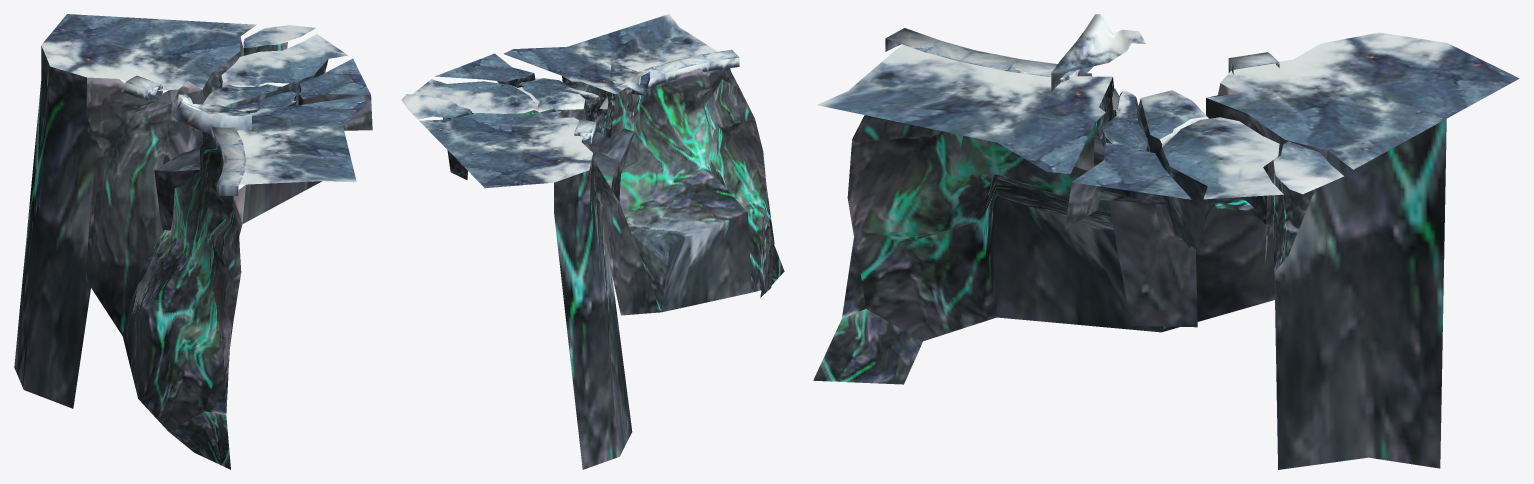
The model's file is S_Build_Snowland206_5.FBX.
3 renders of one model, left to right at view 1: azimuth 30°, elevation 25°; view 2: azimuth 150°, elevation 25°; view 3: azimuth 270°, elevation 25°, orthographic. The views are drawn at different scales.
Parts seen in each view (by area): view 1: S_Build_Snowland206_5; view 2: S_Build_Snowland206_5; view 3: S_Build_Snowland206_5.
Boxes of the visible parts, x1,y1,x2,y2 form: S_Build_Snowland206_5: (14, 14, 372, 469); S_Build_Snowland206_5: (401, 14, 784, 469); S_Build_Snowland206_5: (813, 14, 1519, 469).
Size of the model in its own units: 638 by 968 by 736.
